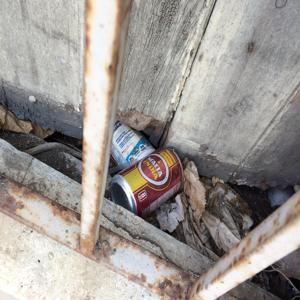metal: (111, 149, 187, 227)
plastic: (97, 107, 158, 164)
